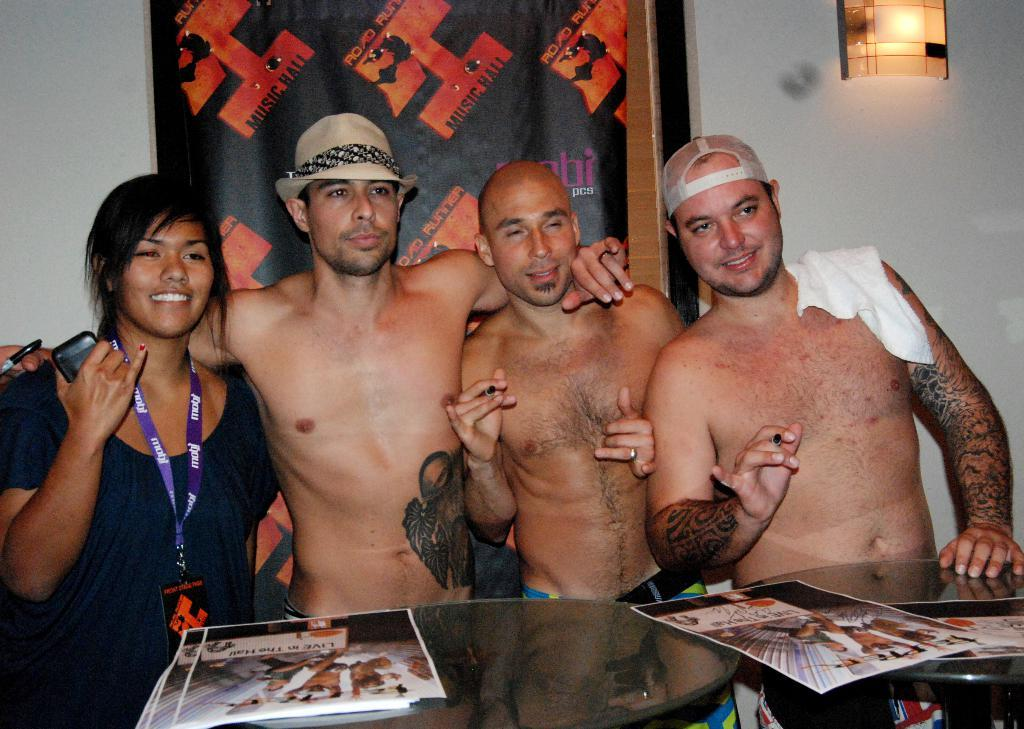Hat: (271, 111, 420, 197)
